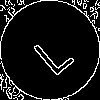L: (25, 25, 76, 78)
